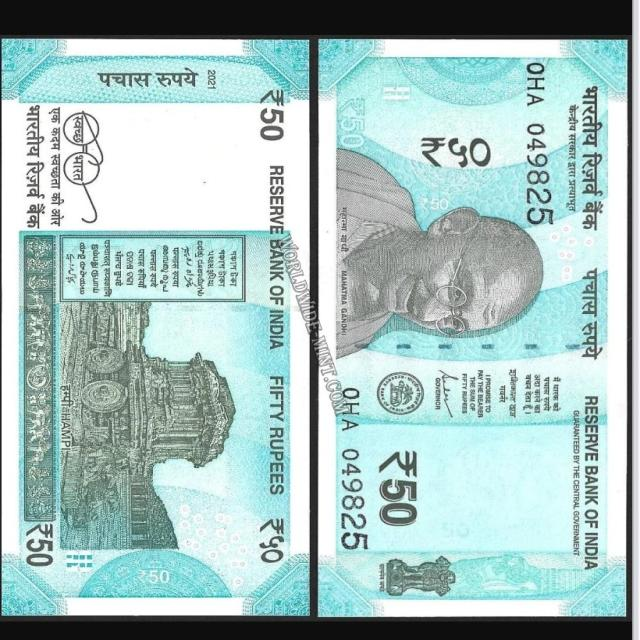50IndianRupees: (0, 39, 310, 615)
